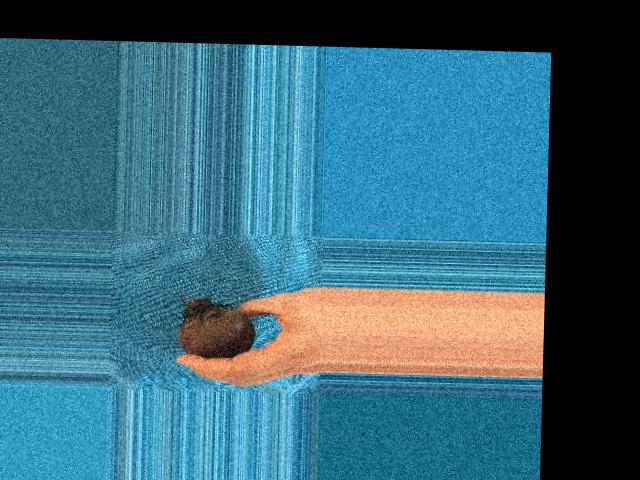beet: (177, 295, 255, 358)
